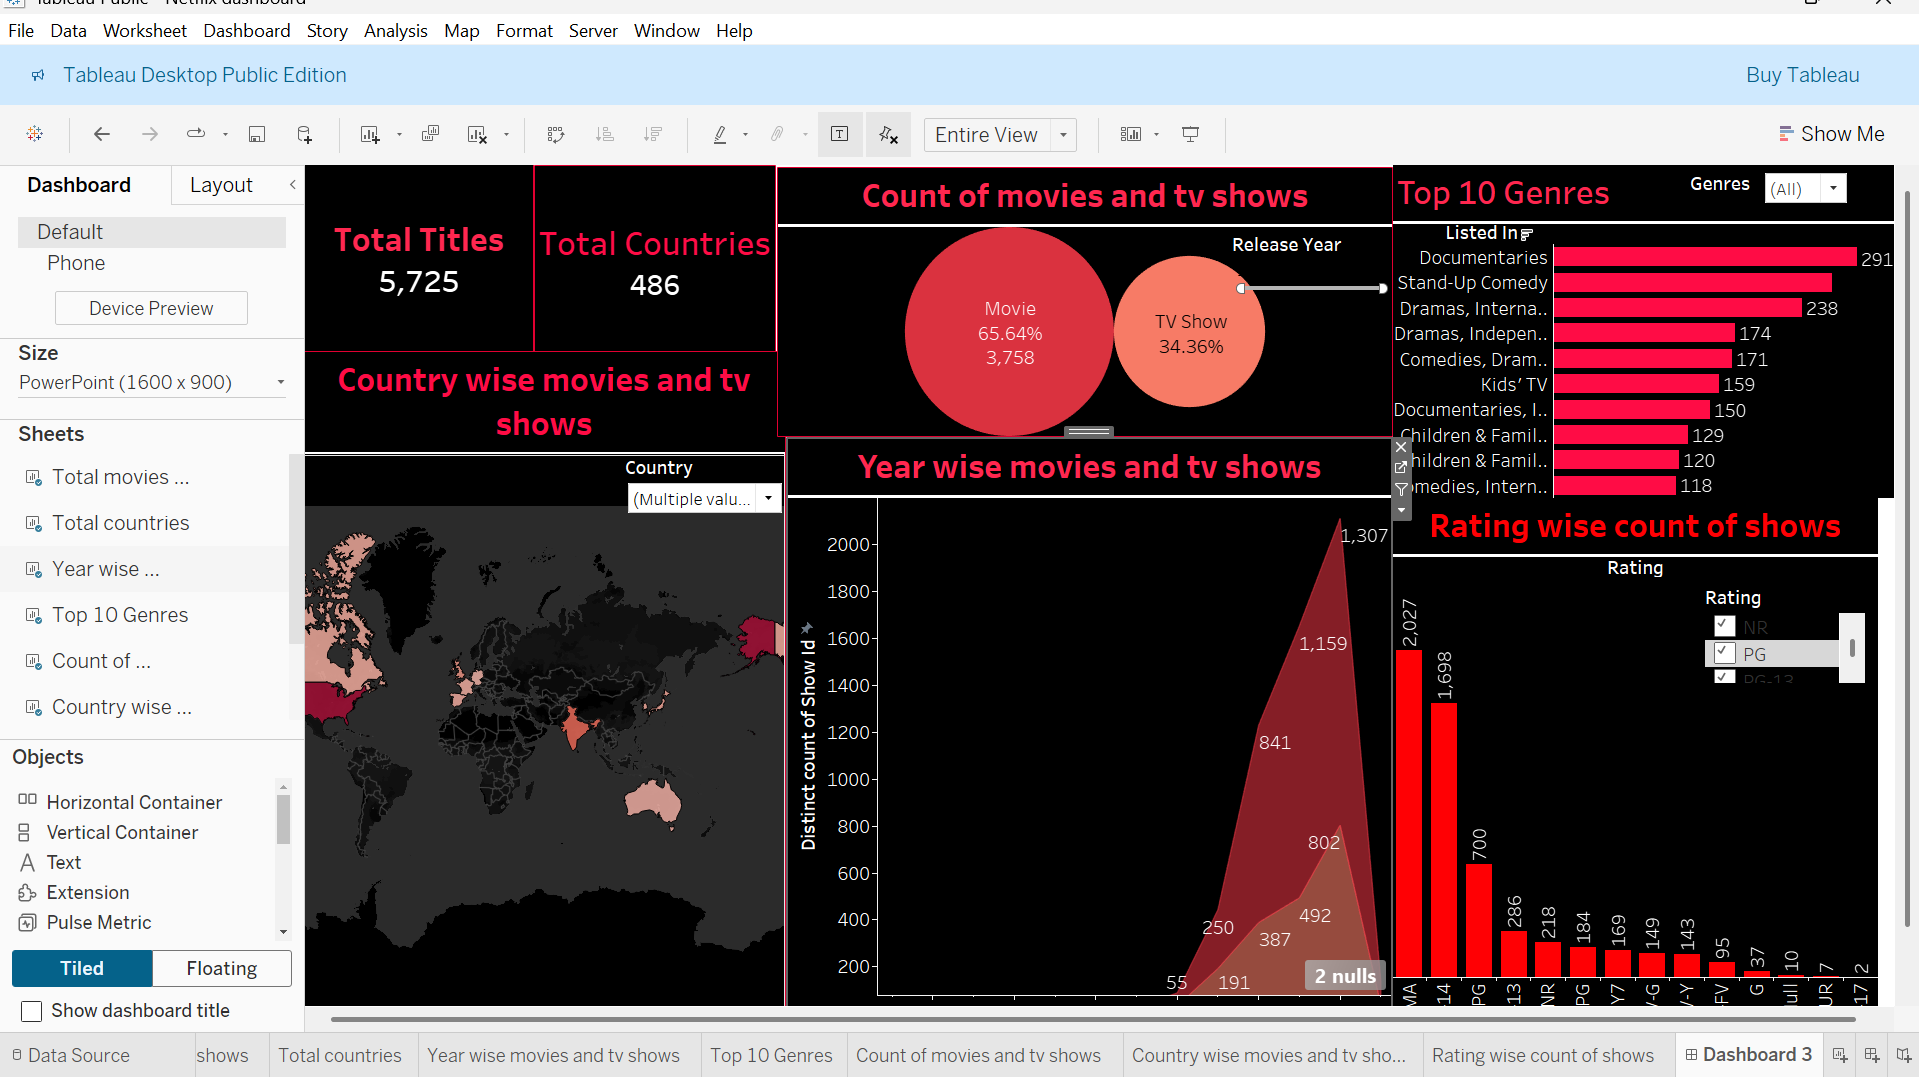

Layout of this report page (visuals, bound fields, positions):
{"tool":"tableau","page":{"name":"Dashboard 3","canvas":[1600,900],"ordinal":0},"visuals":[{"type":"worksheet","title":"Total countries","mark":"Automatic","box":[229.1,0,242,192.6]},{"type":"worksheet","title":"Count of movies and tv shows","mark":"Circle","box":[472,2,616,270]},{"type":"filter","title":"Top 10 Genres","param":"[federated.1jg6fgg19092fk11lxoyn0d5vg5j].[none:type:nk]","box":[1385,8,160,30]},{"type":"filter","title":"Country wise movies and tv shows","param":"[federated.1jg6fgg19092fk11lxoyn0d5vg5j].[none:release_year:qk]","box":[927,66,160,69]},{"type":"worksheet","title":"Year wise movies and tv shows","mark":"Area","rows":["show_id"],"cols":["date_added"],"box":[483,274,603.5,627.1]},{"type":"filter","title":"Top 10 Genres","param":"[federated.1jg6fgg19092fk11lxoyn0d5vg5j].[none:rating:nk]","box":[1400,419,160,99]}]}

Visuals, with their boxes on the page's 1600x900 design canvas (x1, y1, x2, y2). These are canvas units, not pixel positions in the 1919x1077 screenshot, which may show the page scaled, cropped or inside an application window:
"Total countries" worksheet: box=[229, 0, 471, 193]
"Count of movies and tv shows" worksheet (Circle marks): box=[472, 2, 1088, 272]
"Top 10 Genres" filter: box=[1385, 8, 1545, 38]
"Country wise movies and tv shows" filter: box=[927, 66, 1087, 135]
"Year wise movies and tv shows" worksheet (Area marks): box=[483, 274, 1086, 901]
"Top 10 Genres" filter: box=[1400, 419, 1560, 518]
